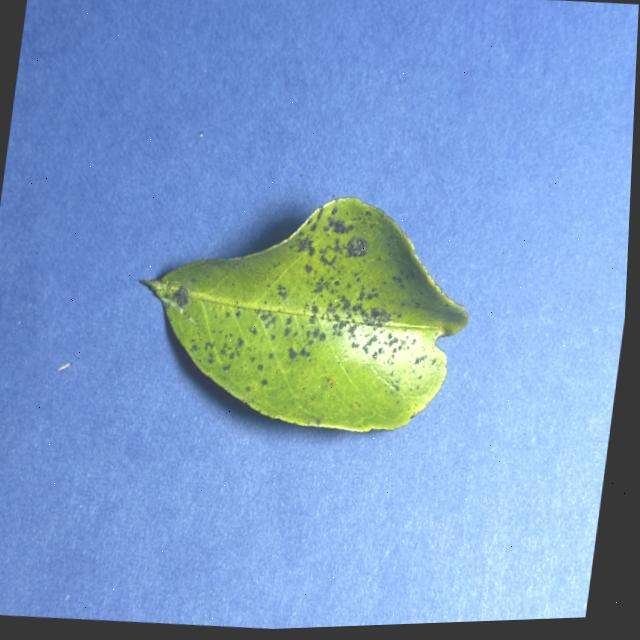sooty_mold: (143, 196, 468, 430)
